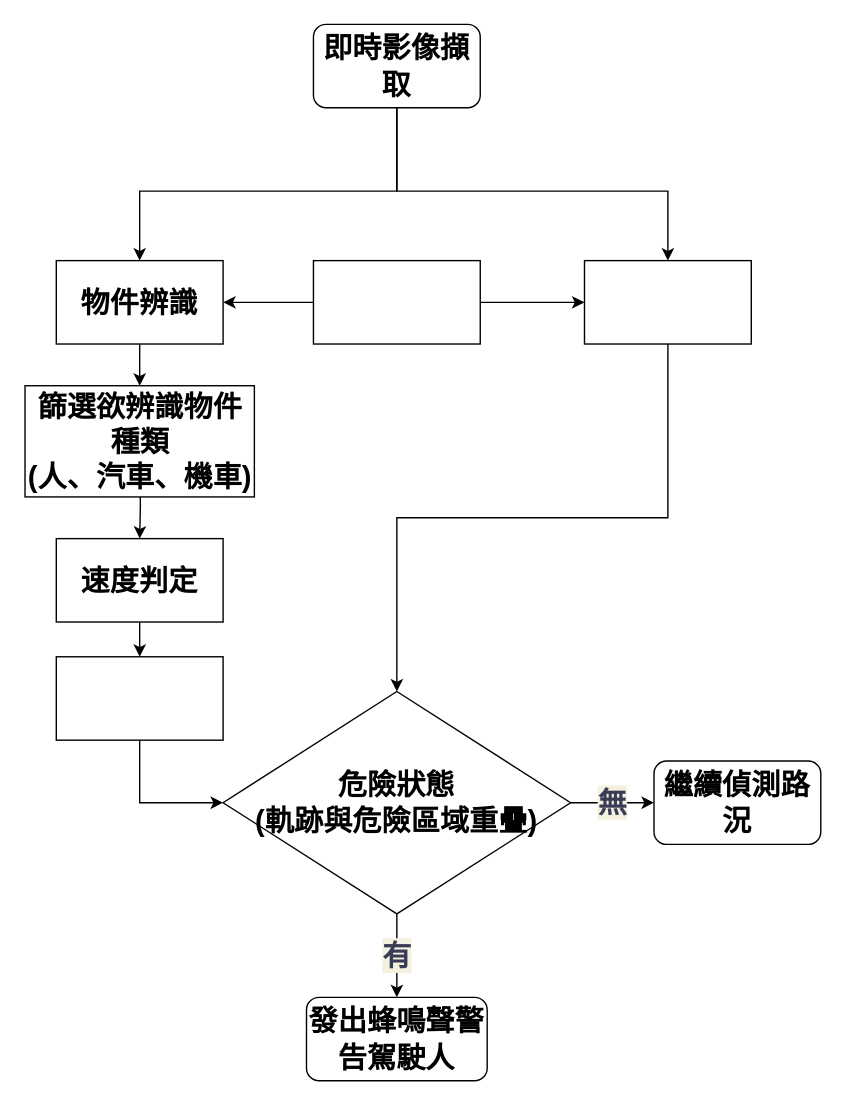
The diagram is 845 pixels wide and 1105 high, and some of its shapes have lost their labels. The shapes that lost their labels are listed below. From the top down, each one's centre as x and y in pixels, then its label:
At [396,301]: "Yolo資料庫".
At [667,301]: "界定危險區域".
At [139,697]: "預測物件軌跡".
